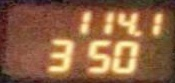-: (134, 29, 141, 36)
0: (110, 40, 138, 73)
1: (77, 10, 91, 35), (150, 11, 163, 35), (101, 11, 114, 35)
3: (45, 37, 73, 72)
4: (116, 11, 138, 35)
5: (85, 38, 110, 73)
